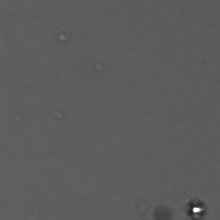Living Cell: (188, 202, 205, 217)
